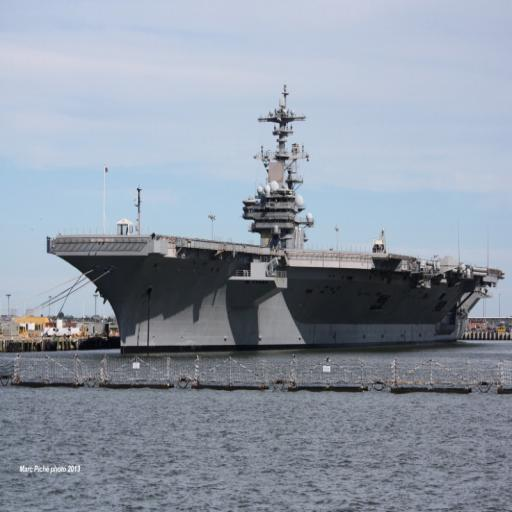Portanaves: (45, 81, 507, 359)
